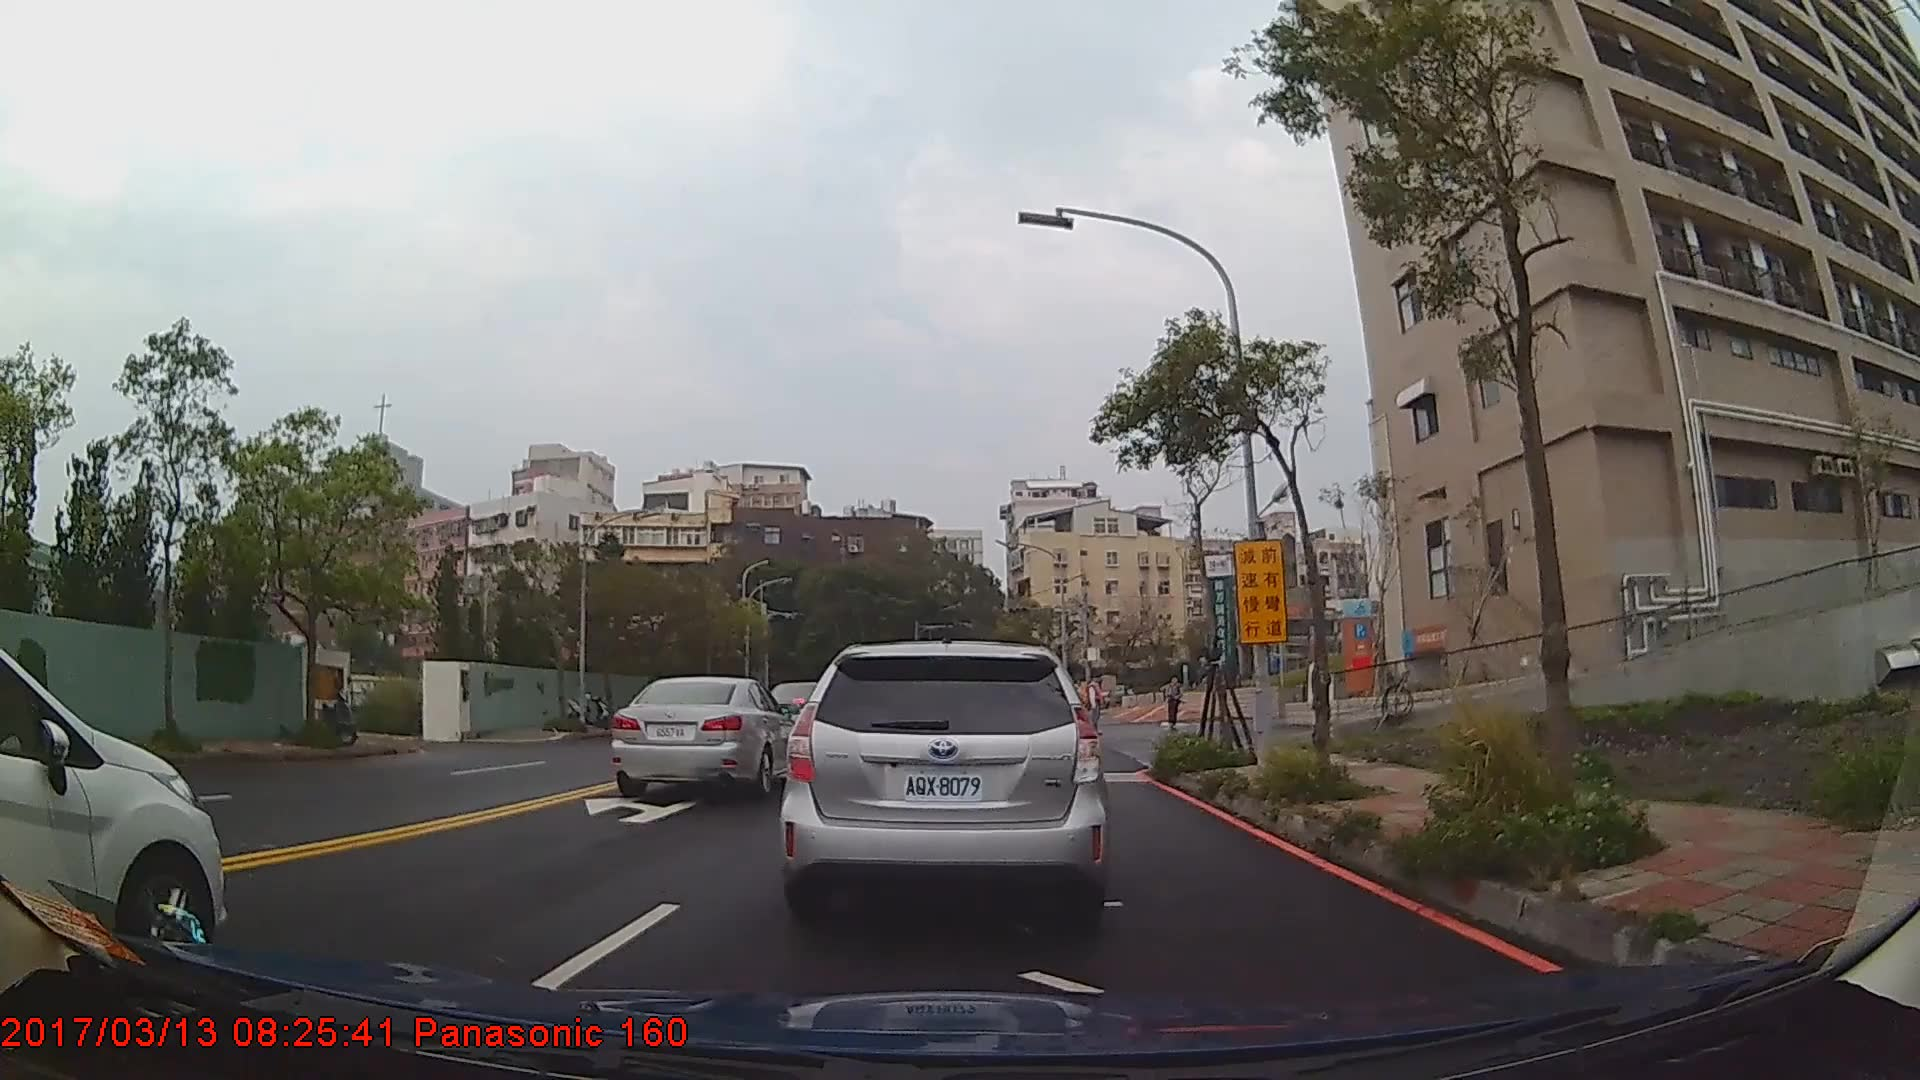pedestrian: (1084, 668, 1110, 741)
vehicle: (777, 637, 1112, 935), (0, 648, 229, 966), (611, 674, 796, 796)
